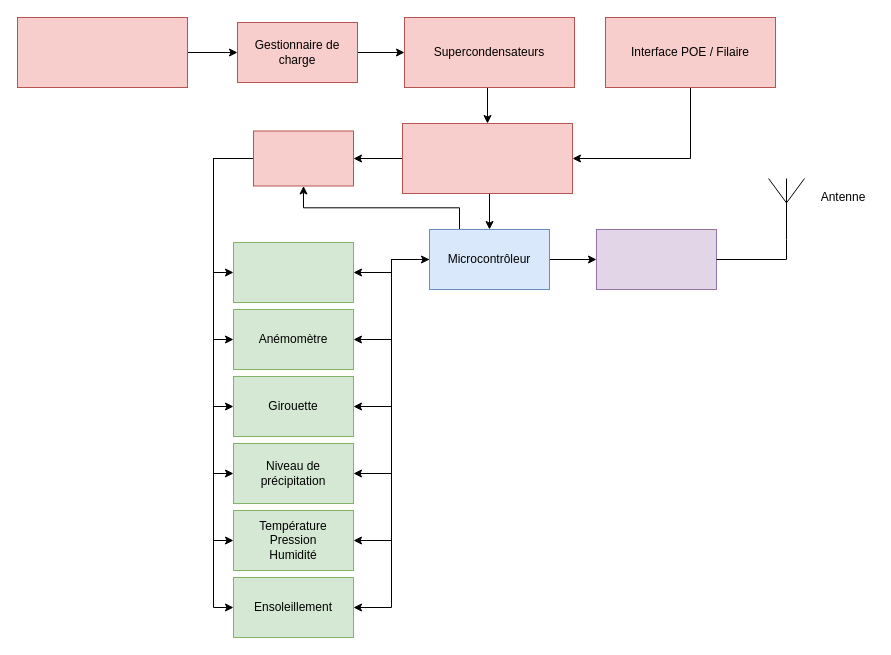
Some shapes in this 891 by 655 pixel diagram are drawn without their labels. The centre of each missing label's shape, as x and y in pixels:
"Gestionnaire de coupure" goes at [303,158].
"GPS" goes at [293,272].
"Panneaux solaires" goes at [102,52].
"Régulateur/Eleveur de tension" goes at [487,158].
"Transmetteur RF" goes at [656,259].
